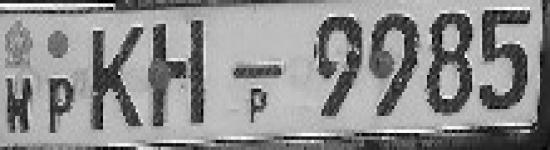-: (227, 61, 293, 88)
5: (476, 6, 532, 115)
8: (426, 5, 476, 113)
9: (306, 9, 367, 119), (368, 10, 424, 124)
H: (149, 16, 214, 132)
K: (90, 21, 147, 131)
P: (46, 67, 76, 137)
W: (4, 70, 35, 137)
